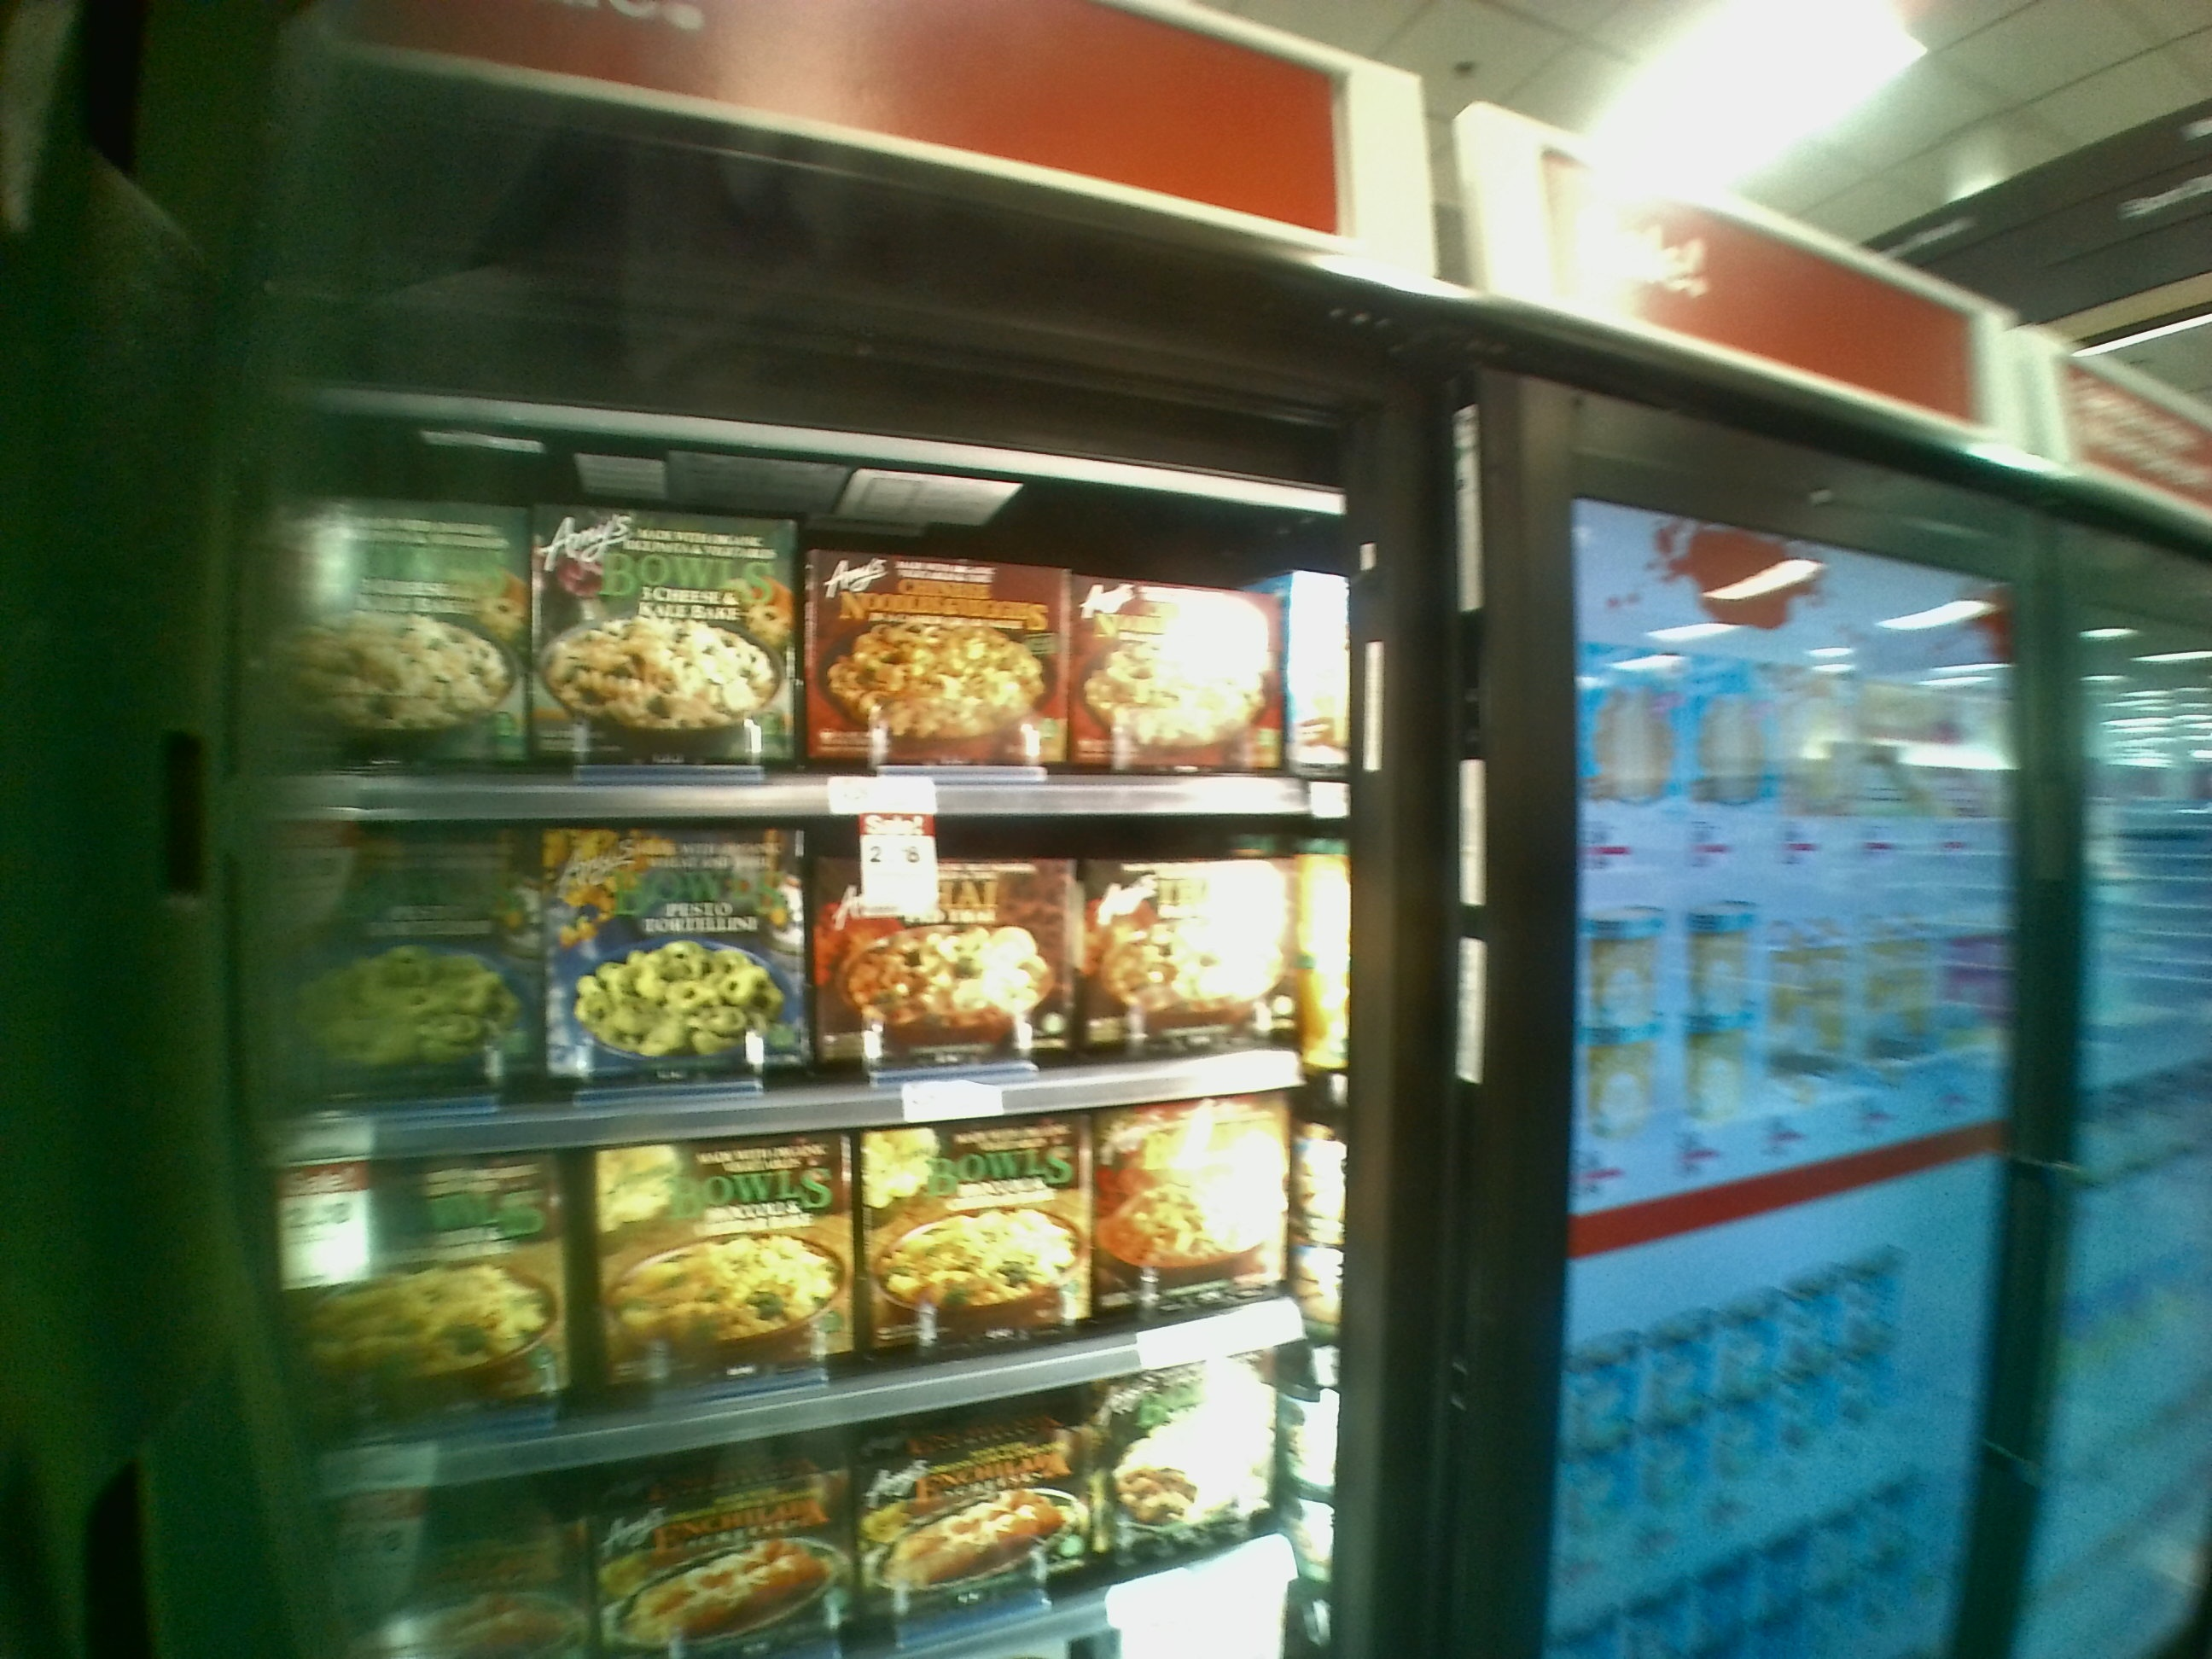shelf: (239, 460, 1345, 824), (272, 1107, 1325, 1438), (237, 821, 1317, 1126)
